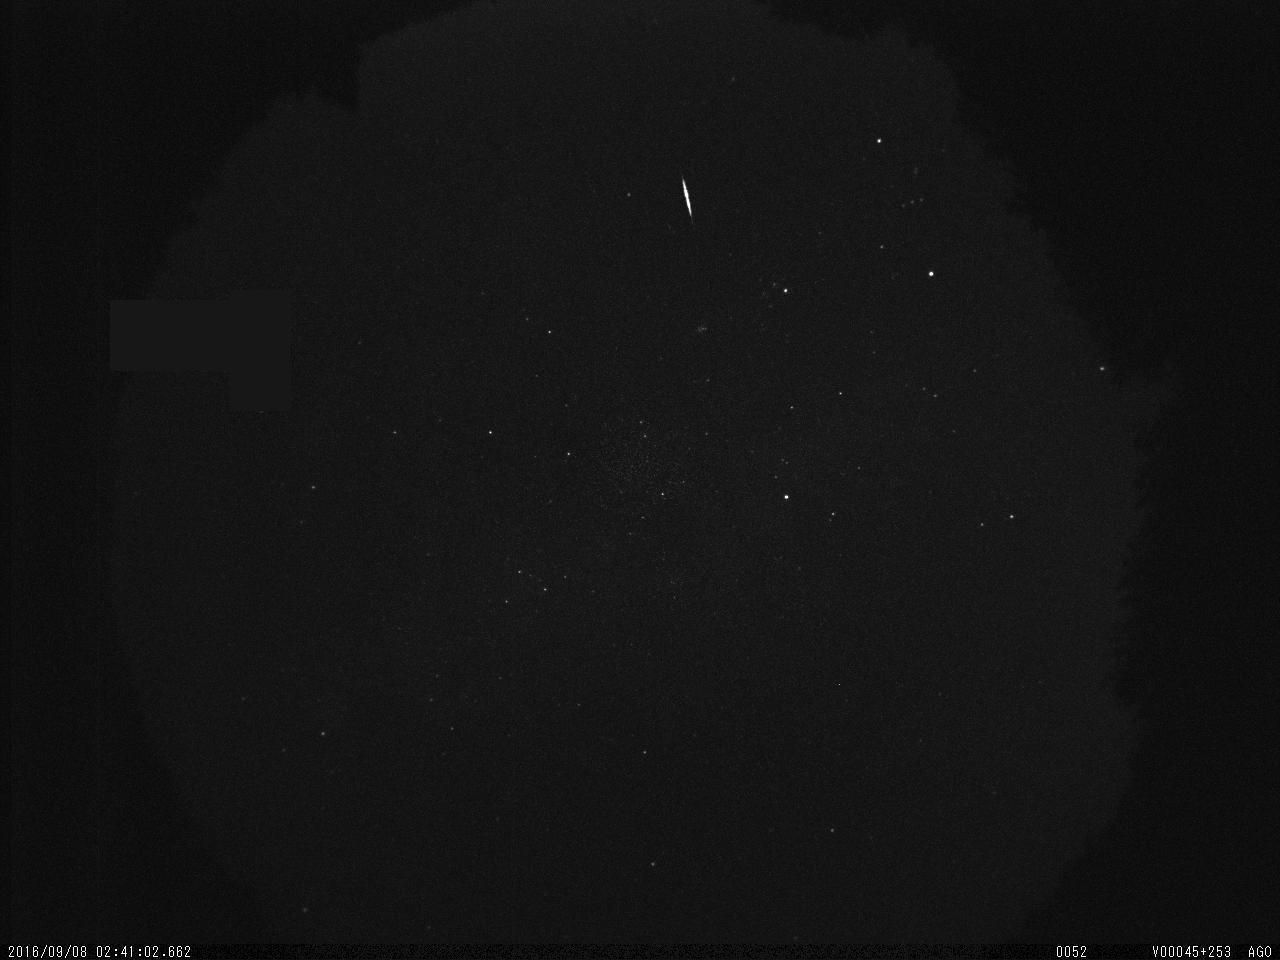Meteor: (677, 173, 696, 222)
